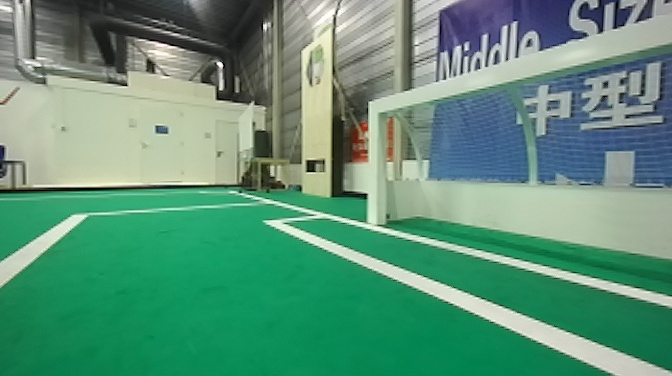goalpost: (356, 94, 395, 227)
